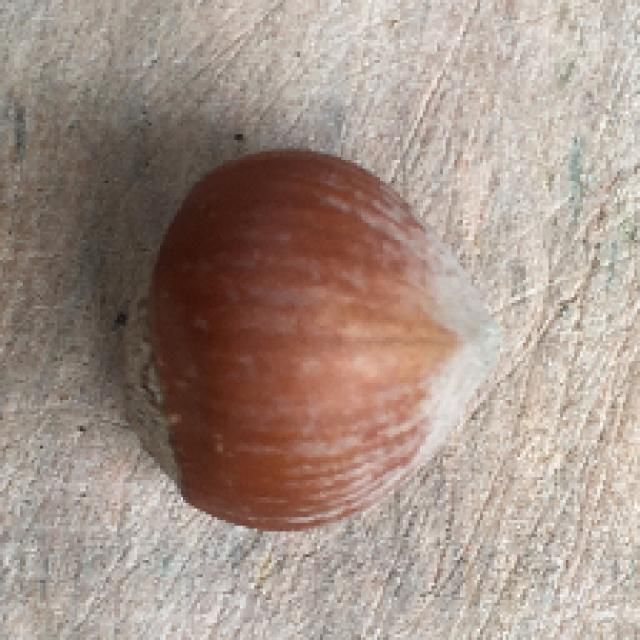qualityHazelnut: (110, 141, 514, 542)
